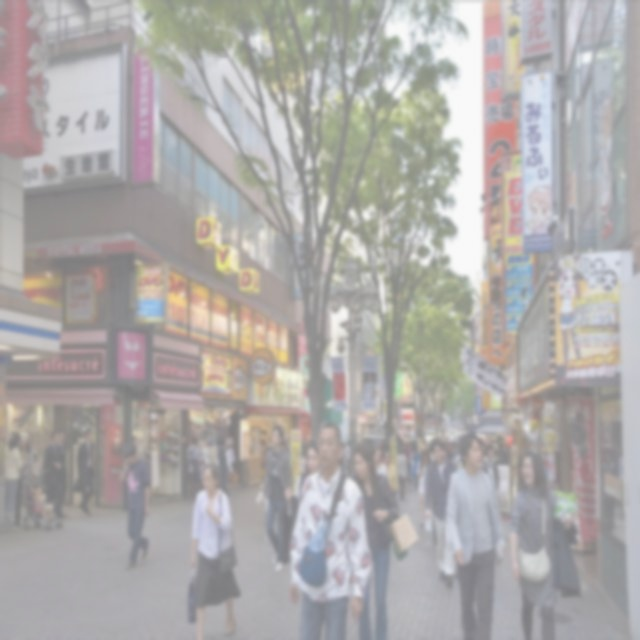pessoa: (286, 417, 374, 639), (508, 446, 584, 639), (443, 428, 506, 640), (348, 442, 404, 639), (185, 459, 243, 639), (258, 423, 296, 574), (425, 436, 455, 590), (118, 439, 150, 570), (595, 94, 618, 243), (555, 256, 585, 366), (417, 433, 507, 466), (426, 433, 506, 466), (12, 429, 34, 528), (72, 424, 95, 518), (565, 166, 587, 260), (430, 444, 449, 544), (124, 439, 146, 522), (4, 431, 24, 522), (295, 440, 322, 505), (43, 430, 63, 516), (602, 445, 619, 536), (523, 188, 553, 239), (415, 447, 432, 530), (215, 434, 234, 498), (57, 428, 69, 518), (186, 436, 202, 502), (440, 410, 480, 434), (34, 481, 56, 524), (397, 432, 417, 478), (482, 443, 500, 493), (382, 448, 399, 494), (396, 446, 408, 502), (298, 436, 314, 473), (396, 414, 424, 434), (110, 428, 122, 474), (411, 444, 422, 492), (491, 446, 502, 494), (373, 446, 389, 478), (132, 426, 146, 462), (402, 442, 413, 486), (341, 438, 353, 476), (362, 369, 374, 404), (342, 440, 354, 473), (298, 438, 308, 475), (422, 414, 440, 434), (498, 442, 509, 466), (208, 431, 220, 448), (260, 439, 268, 464), (280, 438, 288, 452)
